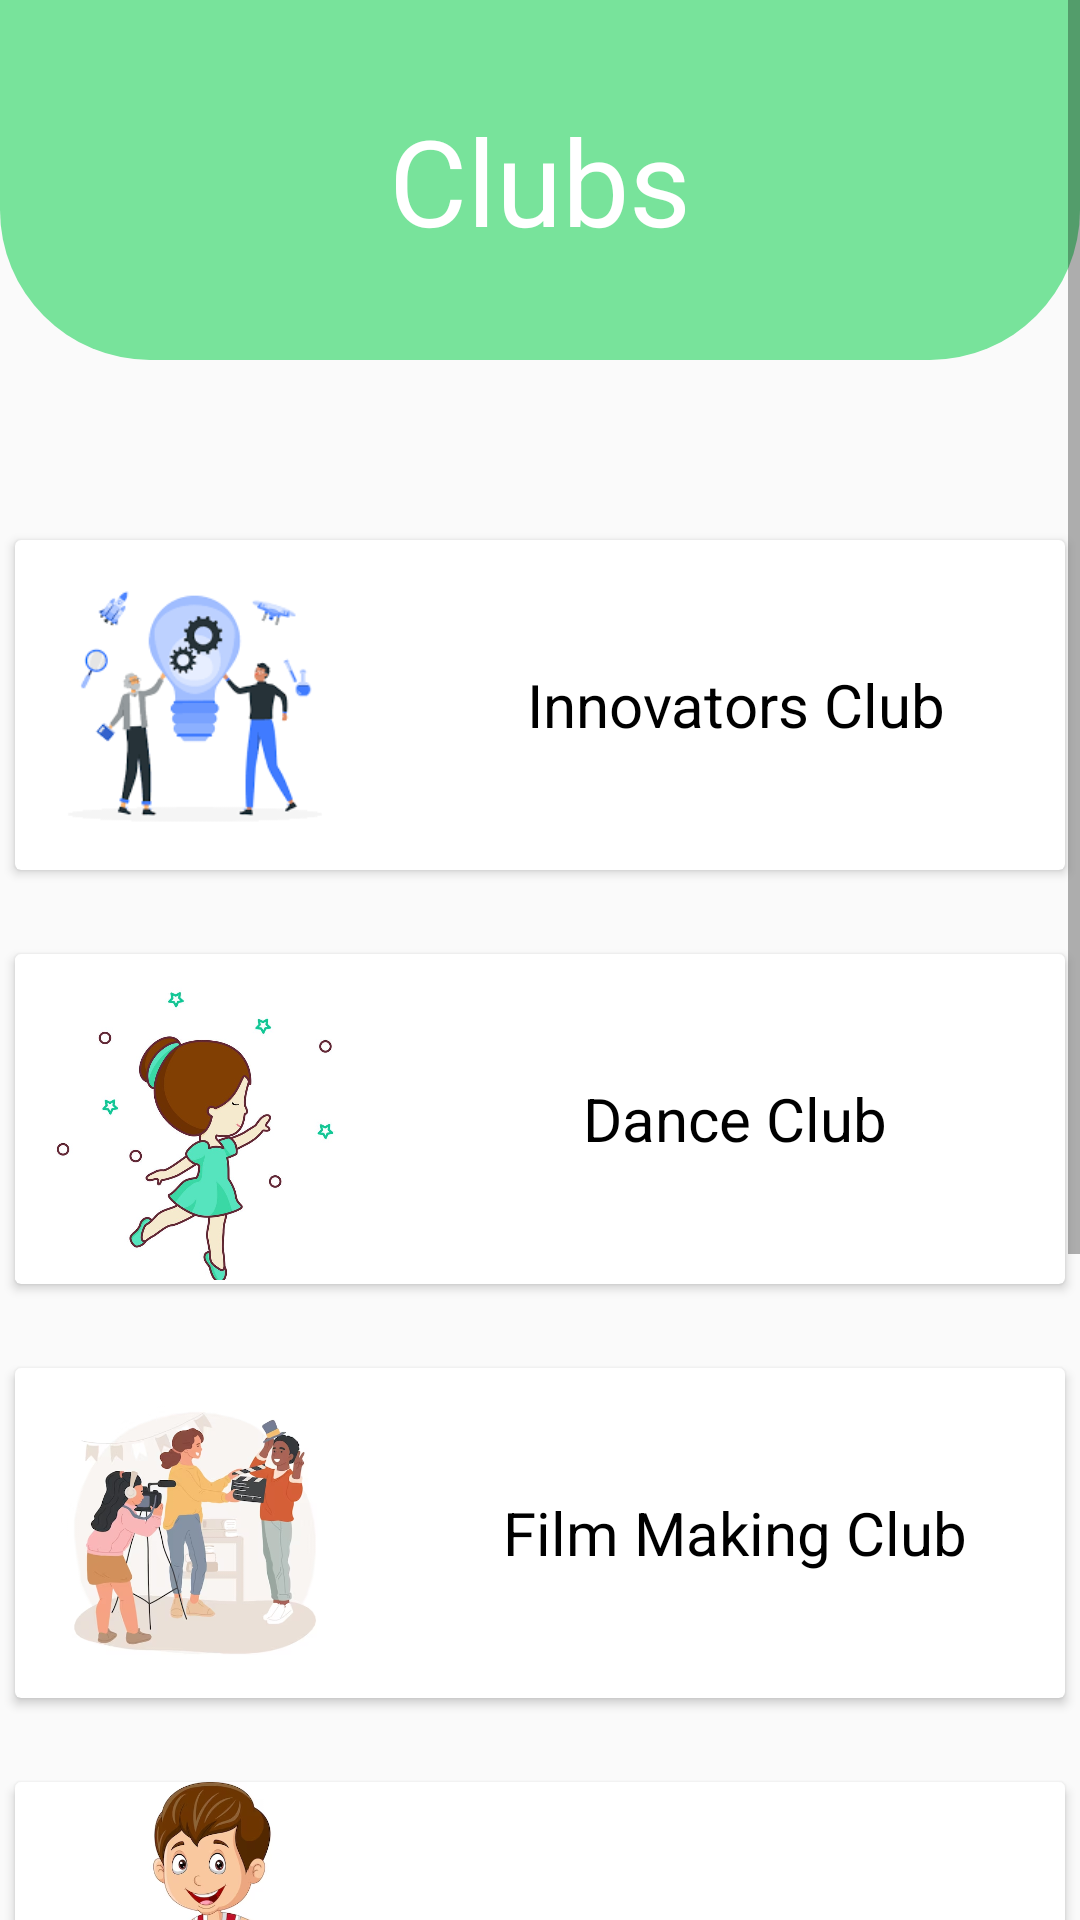

Locate icon controls on the screen. Image size 1080*1920, boxes as [left=x1, top=y1, right=x2, bottom=y2].
flim: [left=74, top=1413, right=316, bottom=1654]
